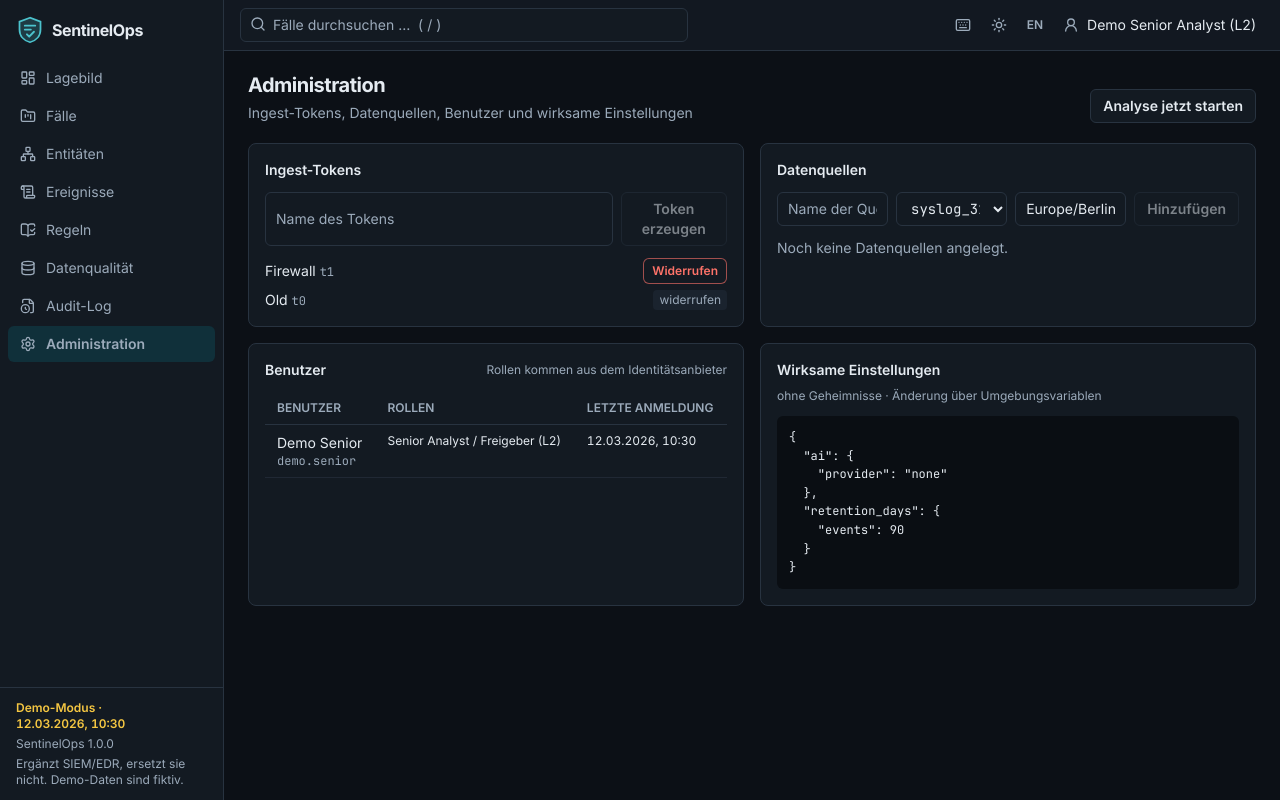
entities, audit and administration › shows admin errors
Type "abc" into the field labelled "Name des Tokens" at (439, 219), box [265,192,613,246]
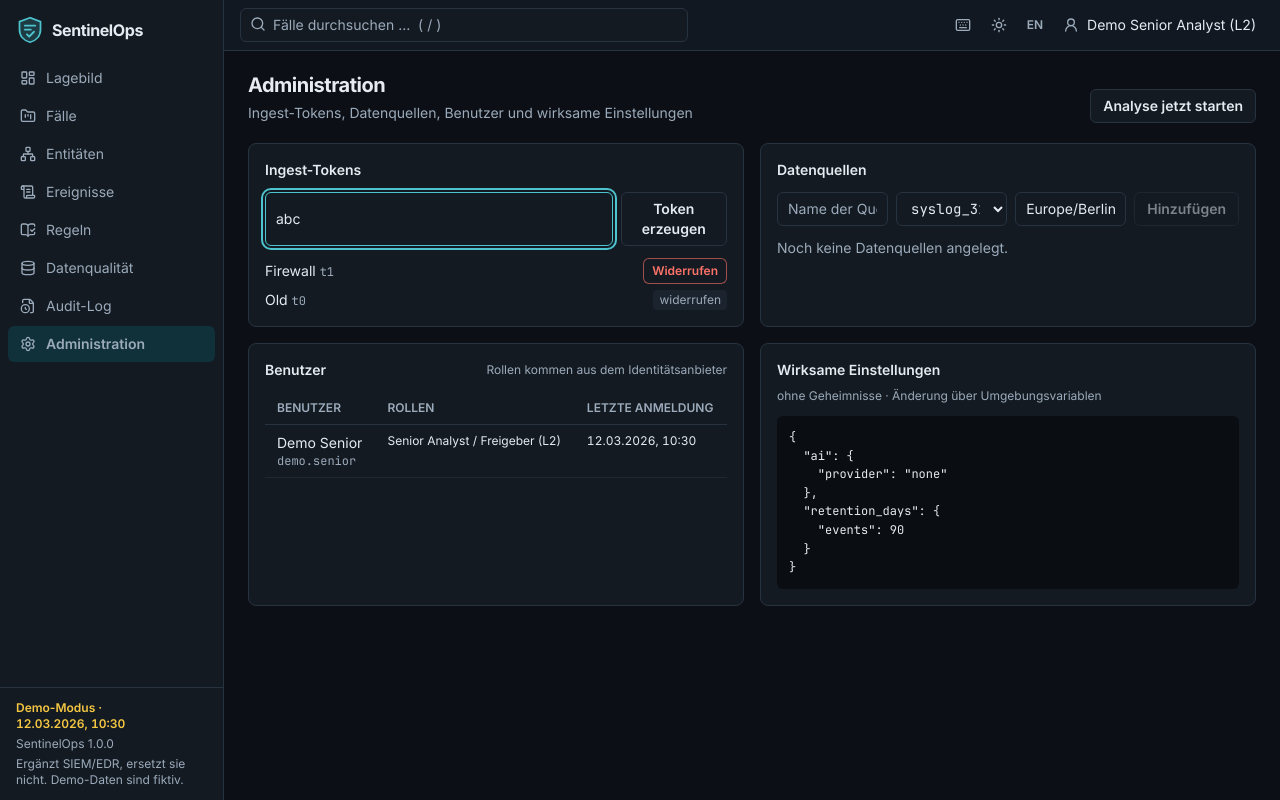
Click the button "Token erzeugen" at (674, 219), box [621,192,727,246]
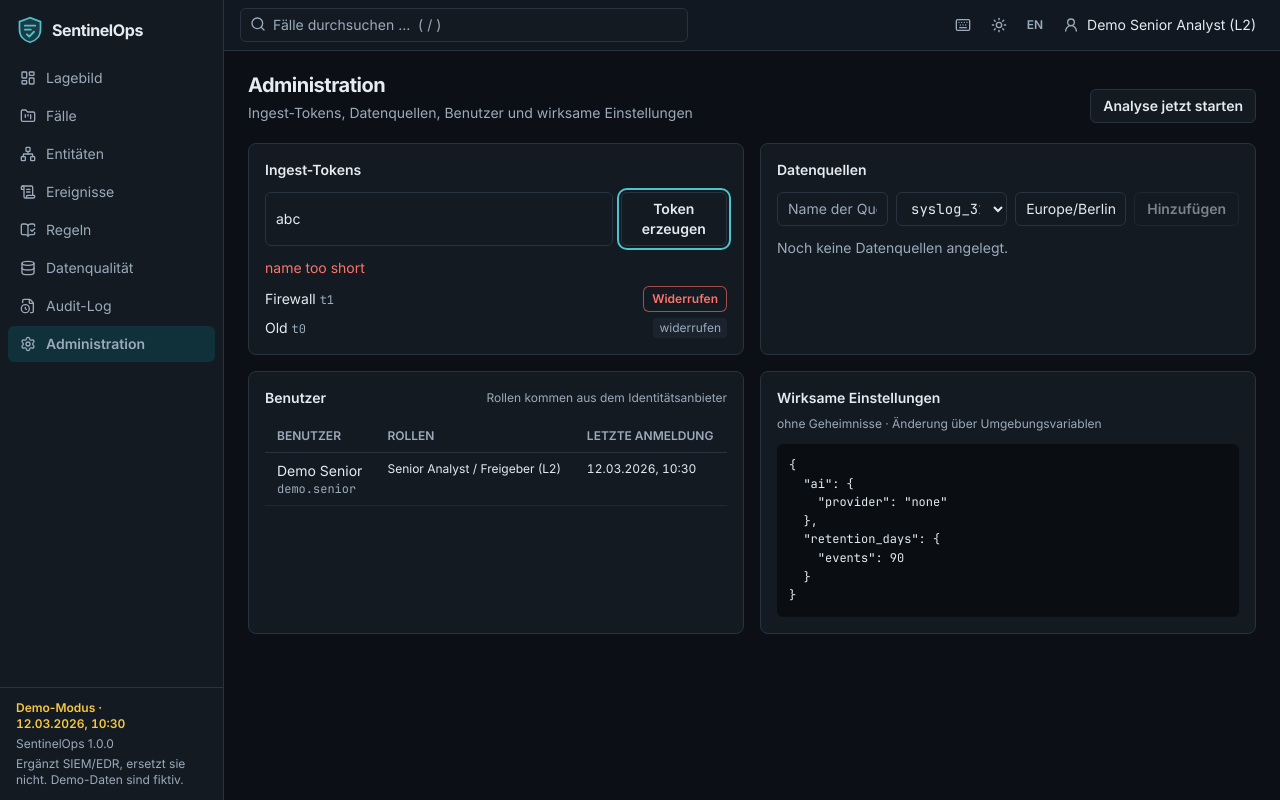
Expected: the text "Noch keine Datenquellen angelegt." is shown, [777,239,1008,256]
Now the text "name too short" is shown, box [265,259,365,276]
Type "VPN" into the field labelled "Name der Quelle" at (833, 209), box [777,192,888,226]
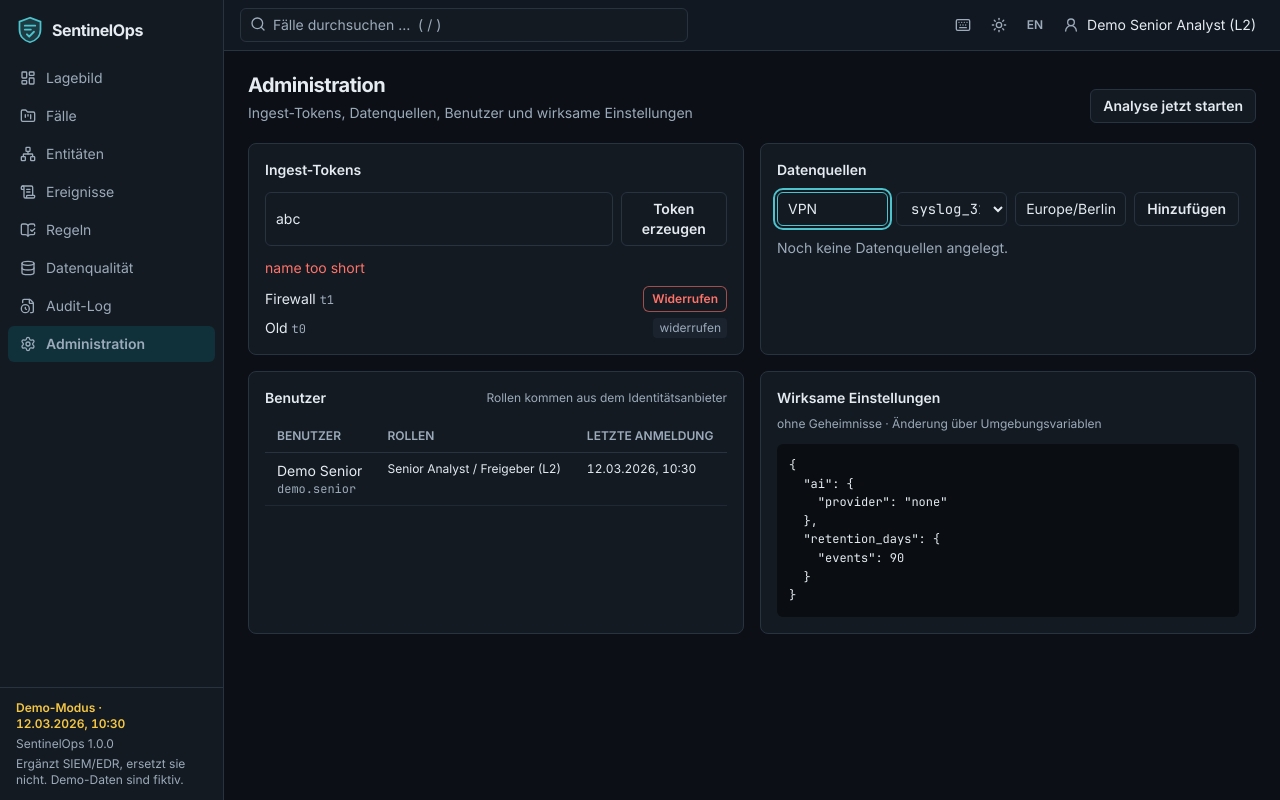
Click the button "Hinzufügen" at (1187, 209), box [1134,192,1239,226]
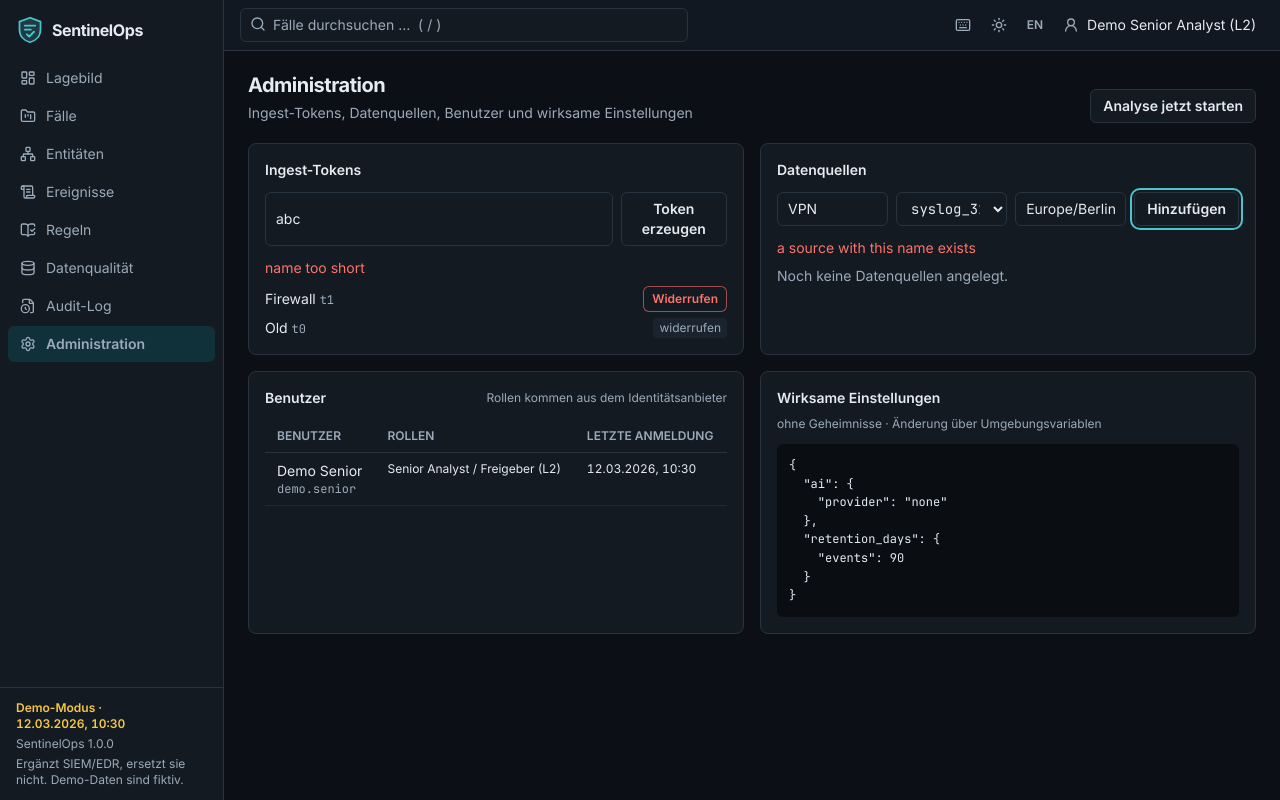
Now the text "a source with this name exists" is shown, box [777,239,976,256]
